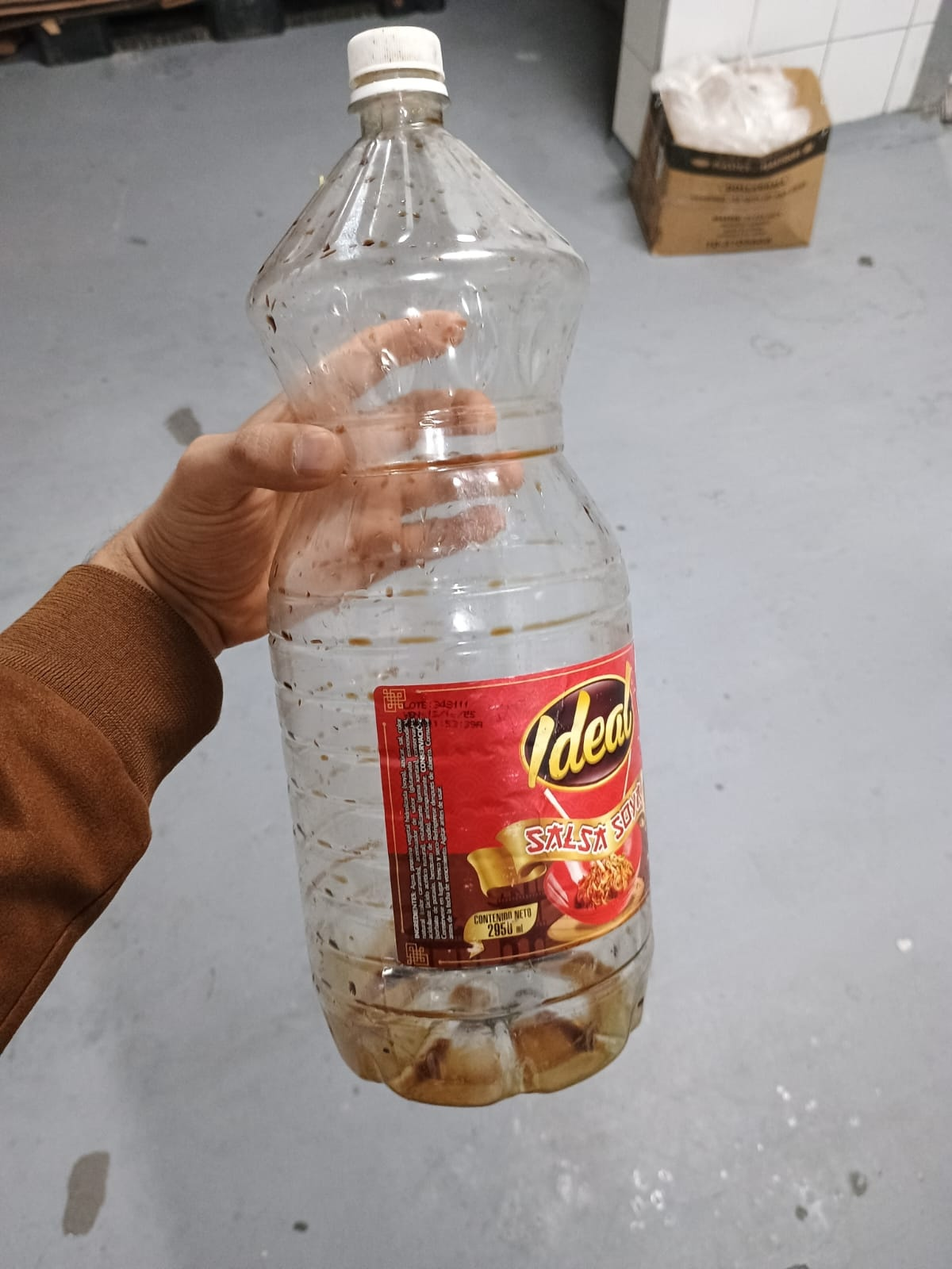Plastico: (246, 27, 653, 1106)
